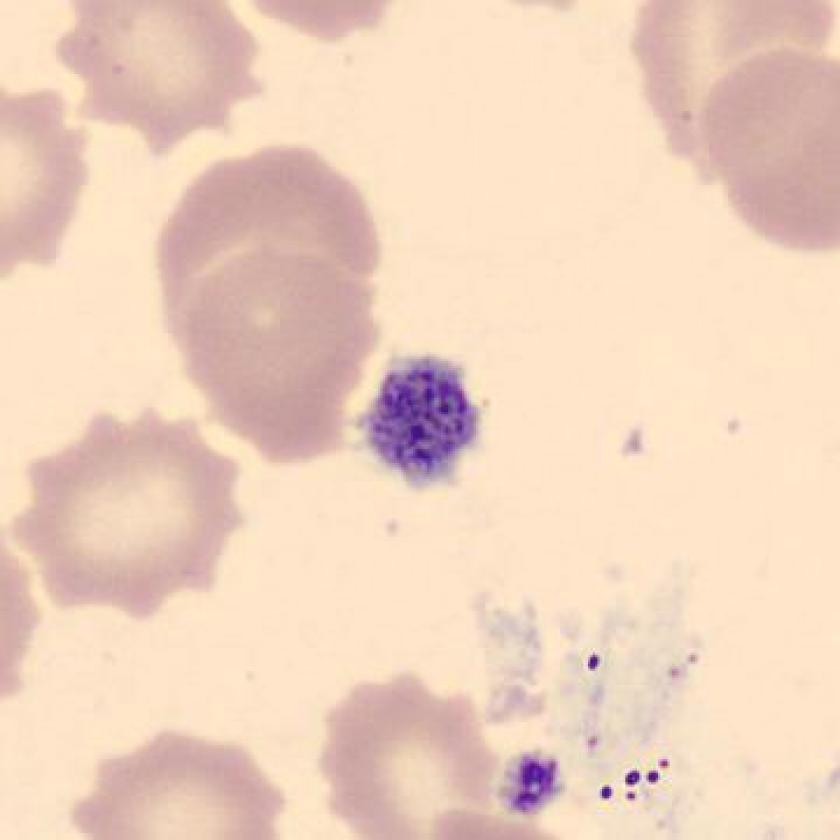platelets: (346, 341, 503, 503), (496, 735, 573, 825)
